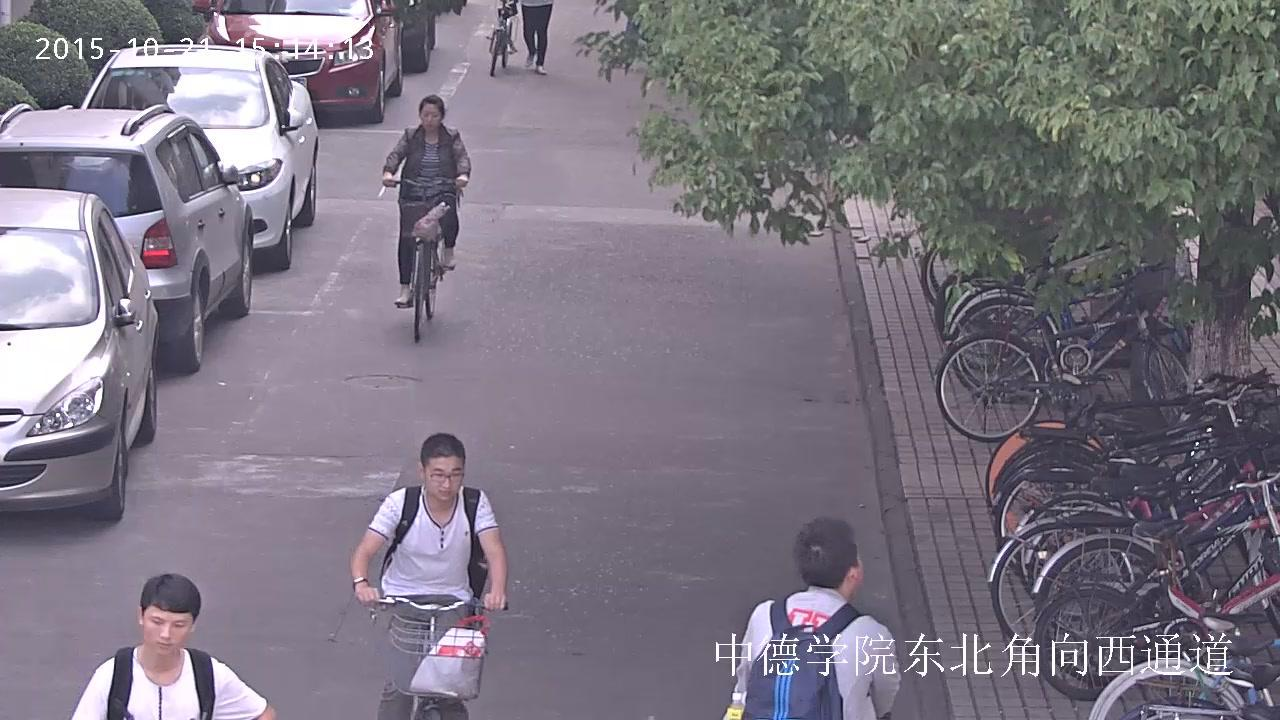person: (349, 433, 508, 719), (350, 433, 507, 720), (722, 518, 899, 720), (71, 573, 273, 720), (383, 93, 471, 343), (383, 94, 470, 305), (485, 0, 554, 77), (515, 0, 554, 74)
